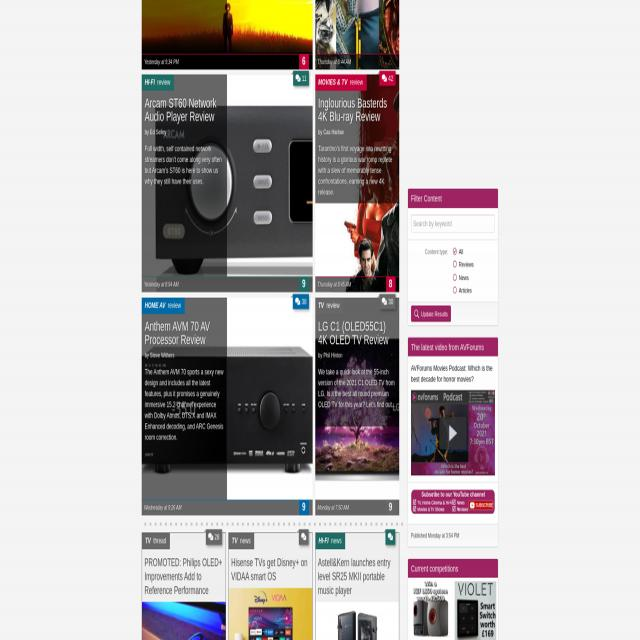button: (142, 297, 312, 516), (142, 74, 312, 292), (315, 298, 399, 517), (315, 74, 399, 292), (142, 0, 312, 69), (142, 532, 226, 640), (228, 532, 312, 640), (316, 532, 399, 640), (412, 391, 496, 475), (315, 0, 399, 70), (411, 490, 495, 514), (408, 189, 499, 209), (407, 558, 498, 577), (408, 338, 498, 356), (411, 306, 451, 322)
field: (411, 214, 495, 233), (453, 260, 457, 268), (453, 274, 457, 282), (453, 286, 457, 294), (453, 248, 457, 255)
